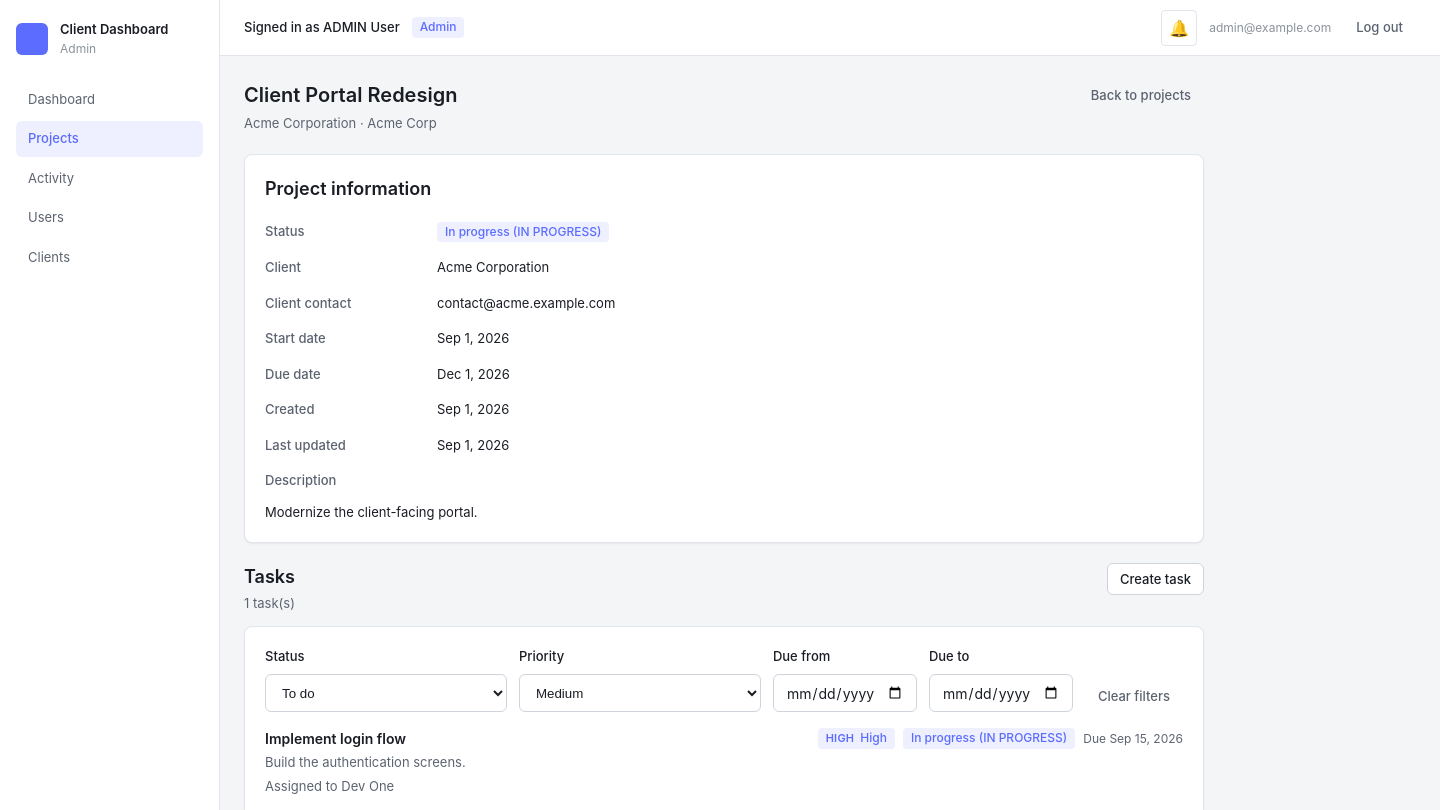
Task filters and URL query parameters › clears filters from the URL and API request
The width and height of the screenshot is (1440, 810).
Expected: the dropdown labelled "Status" shows "To do", [265,674,507,712]
Click the button "Clear filters".
click(1134, 696)  # box [1085,680,1183,712]
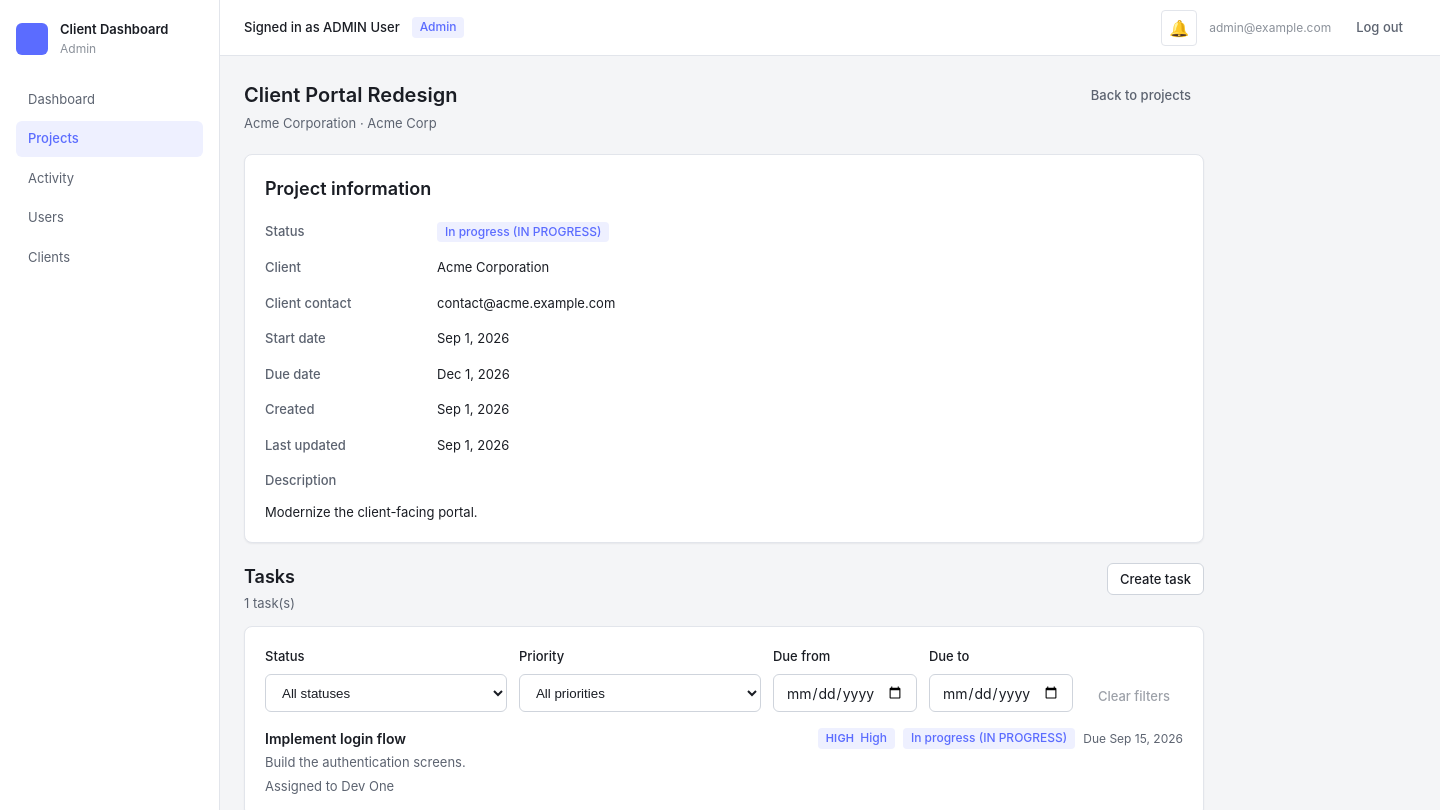
Now the dropdown labelled "Status" shows "All statuses", box [265,674,507,712]
Now the dropdown labelled "Priority" shows "All priorities", box [519,674,761,712]
